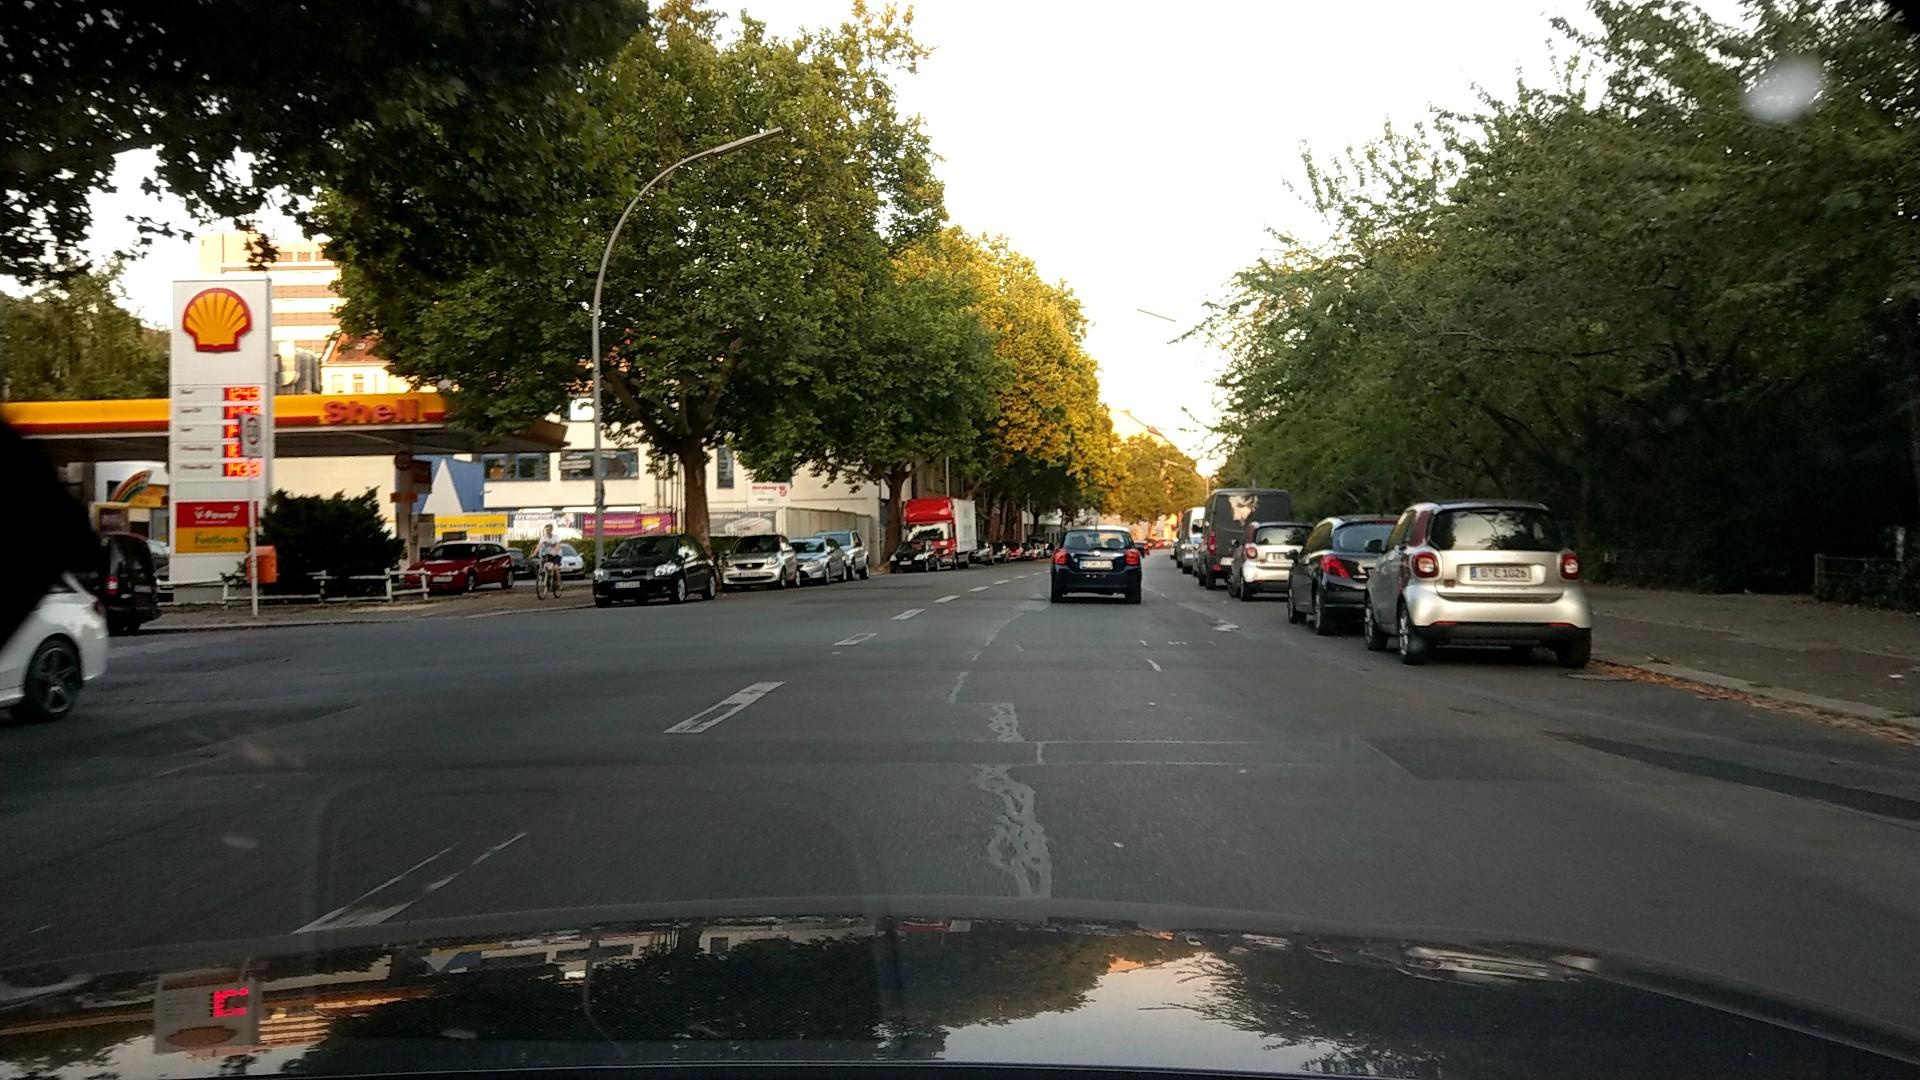Human face: (544, 525, 553, 536)
Vehicle registration plate: (1471, 566, 1530, 581), (1080, 560, 1112, 569), (614, 581, 641, 589), (133, 584, 152, 593), (738, 572, 759, 578), (433, 576, 452, 582)
